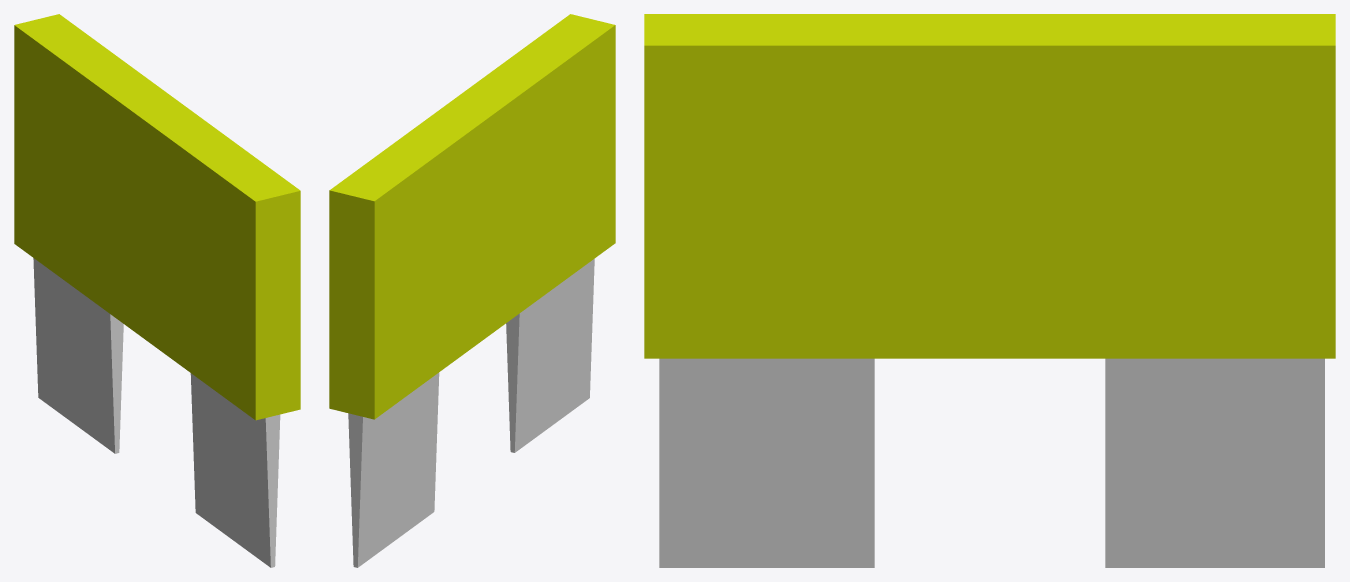
Rendered from FuseYellow.fbx.
3 renders of one model, left to right at view 1: azimuth 30°, elevation 25°; view 2: azimuth 150°, elevation 25°; view 3: azimuth 270°, elevation 25°, orthographic. The views are drawn at different scales.
Visible parts, largest first — view 1: Cube; view 2: Cube; view 3: Cube.
Part boxes in pixels (<box>): Cube: <box>14,14,300,567</box>; Cube: <box>329,14,615,567</box>; Cube: <box>644,14,1335,567</box>.
Bounding box in the file's own units: 0.00324 × 0.0257 × 0.03.
